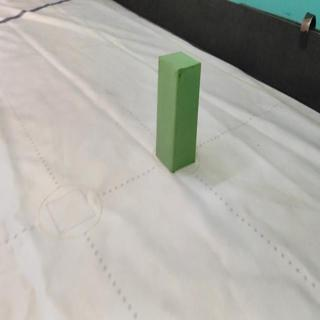greenbox: (156, 53, 202, 176)
